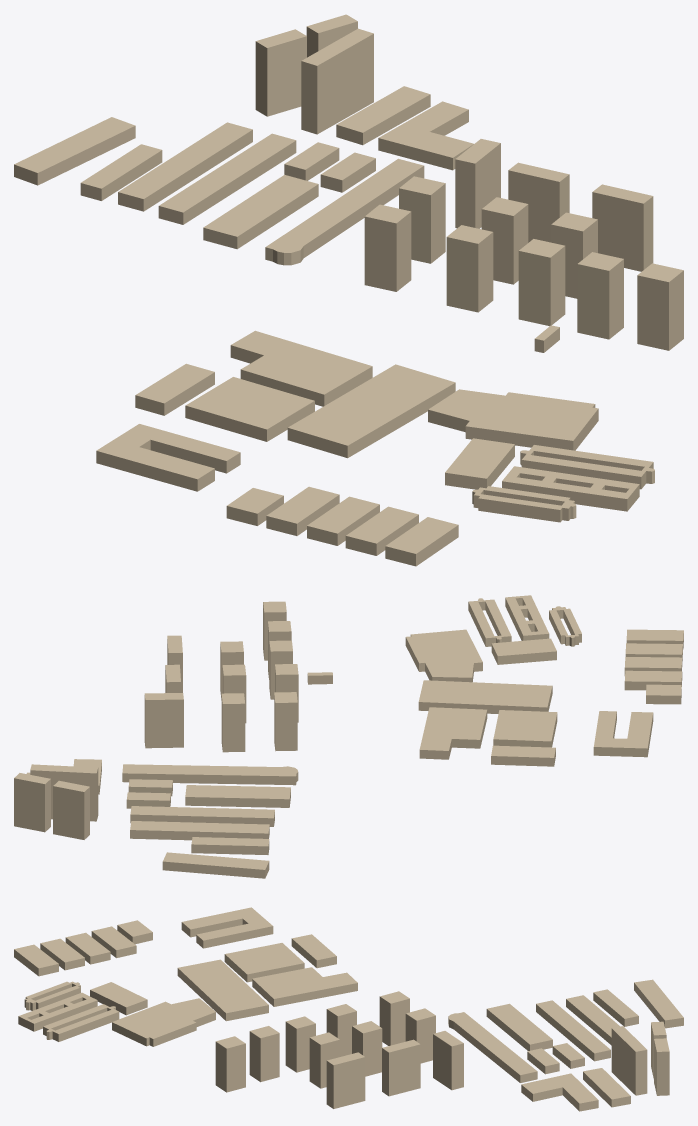
Rendered from -7_17-estimated-coarse.glb.
3 renders of one model, top to bottom at view 1: azimuth 30°, elevation 25°; view 2: azimuth 150°, elevation 25°; view 3: azimuth 270°, elevation 25°, orthographic. The views are drawn at different scales.
Bounding box in the file's own units: 633 × 66 × 913.
